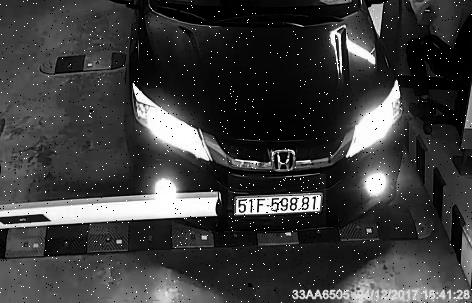License-plate: (230, 175, 329, 230)
